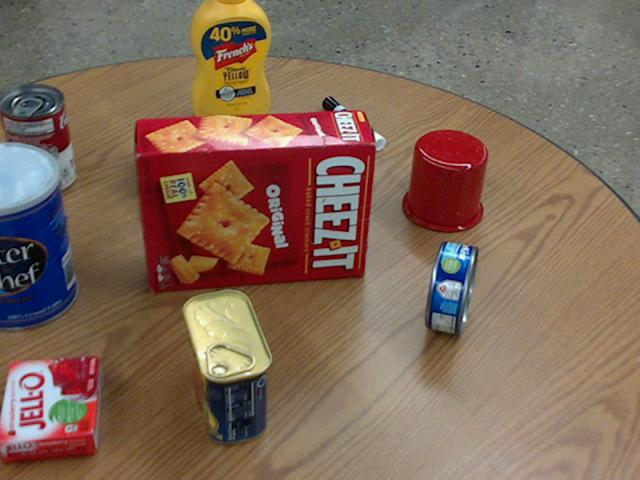cracker_box: (137, 110, 374, 289)
gelatin_box: (0, 355, 100, 462)
large_marker: (322, 95, 384, 149)
master_chef_can: (0, 143, 76, 330)
mug: (400, 129, 486, 231)
mustard_bottle: (190, 0, 270, 123)
potted_meat_can: (181, 288, 269, 442)
sugar_box: (136, 123, 295, 193)
tomato_soup_can: (0, 83, 75, 193)
tuna_fish_can: (426, 240, 476, 334)
